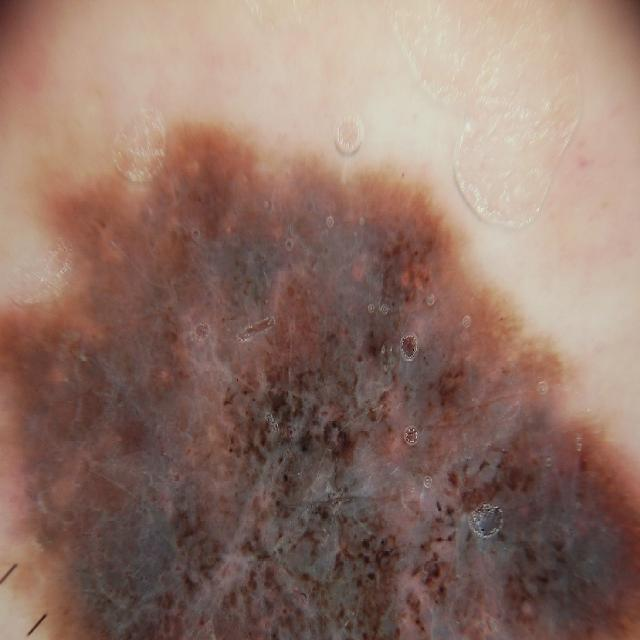Melanoma: (0, 93, 640, 640)
